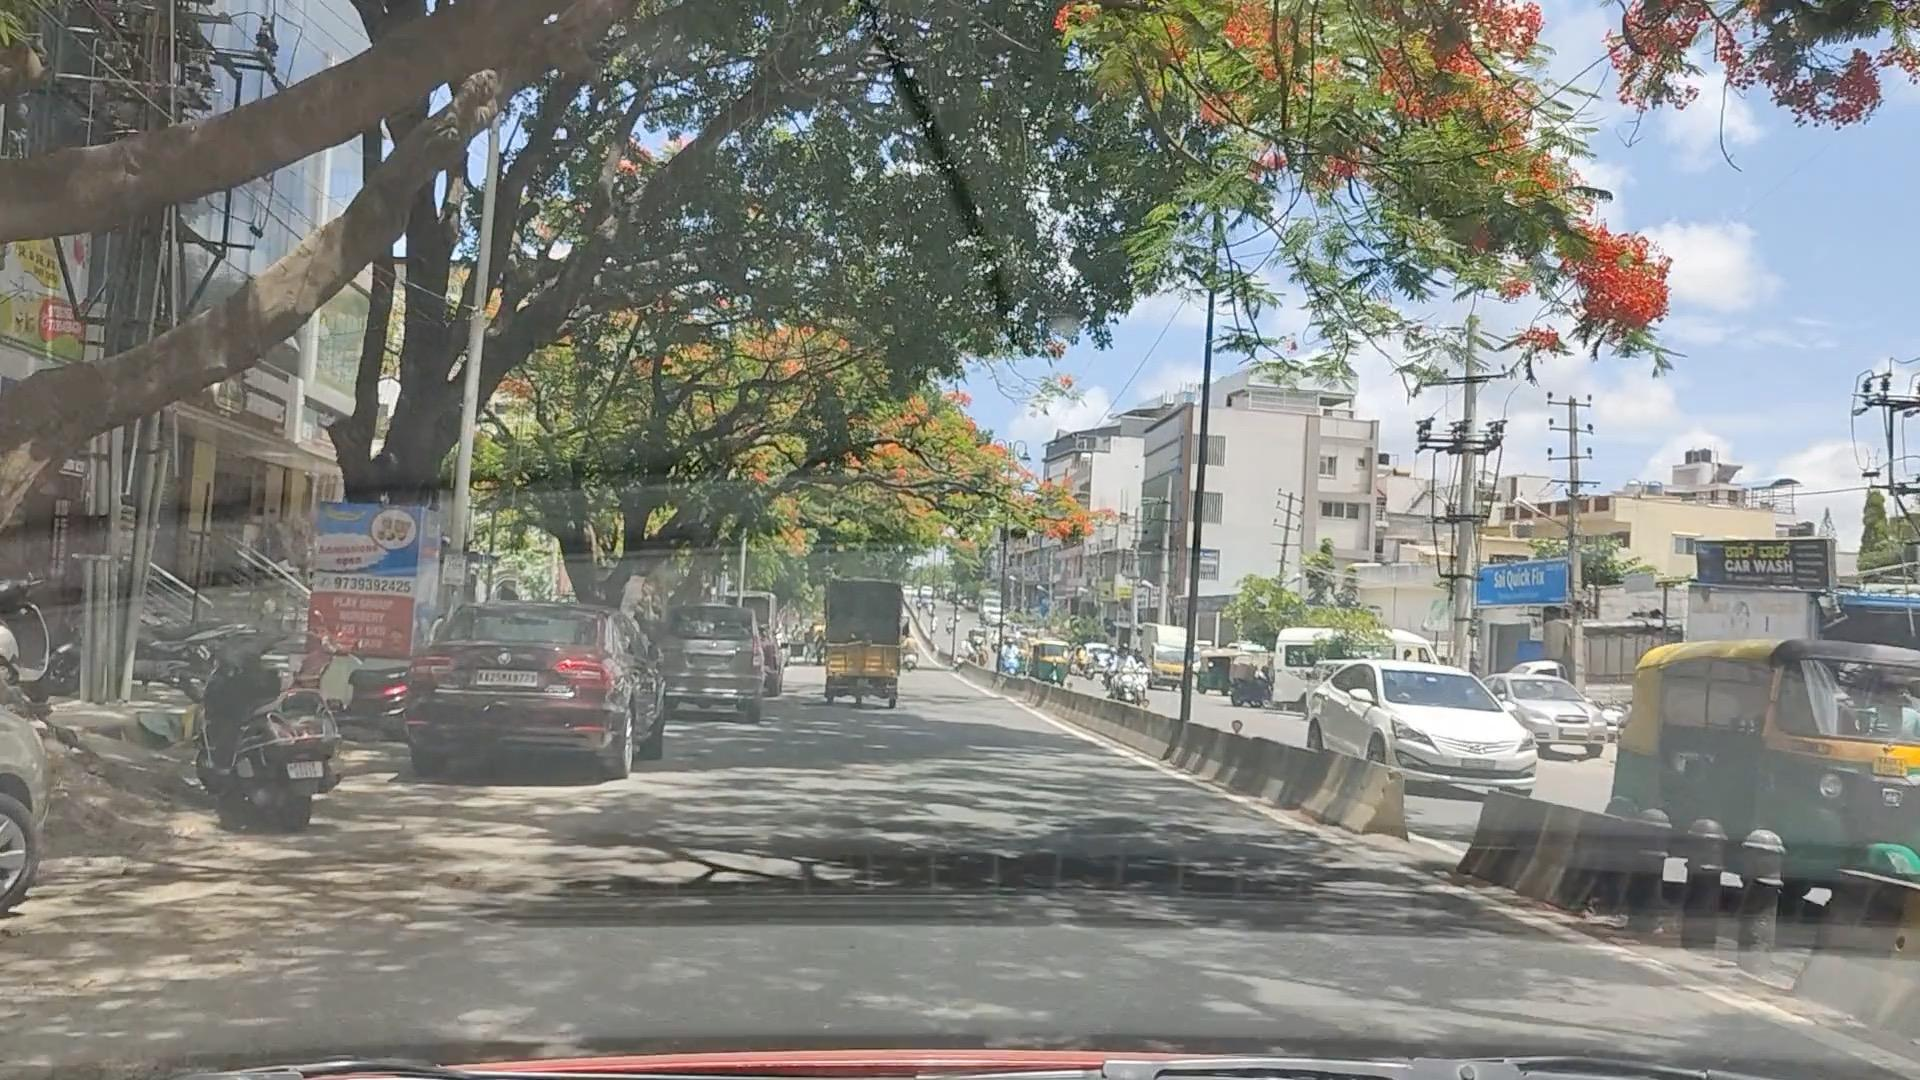HMV: (823, 574, 902, 709)
LMV: (378, 620, 676, 774)
